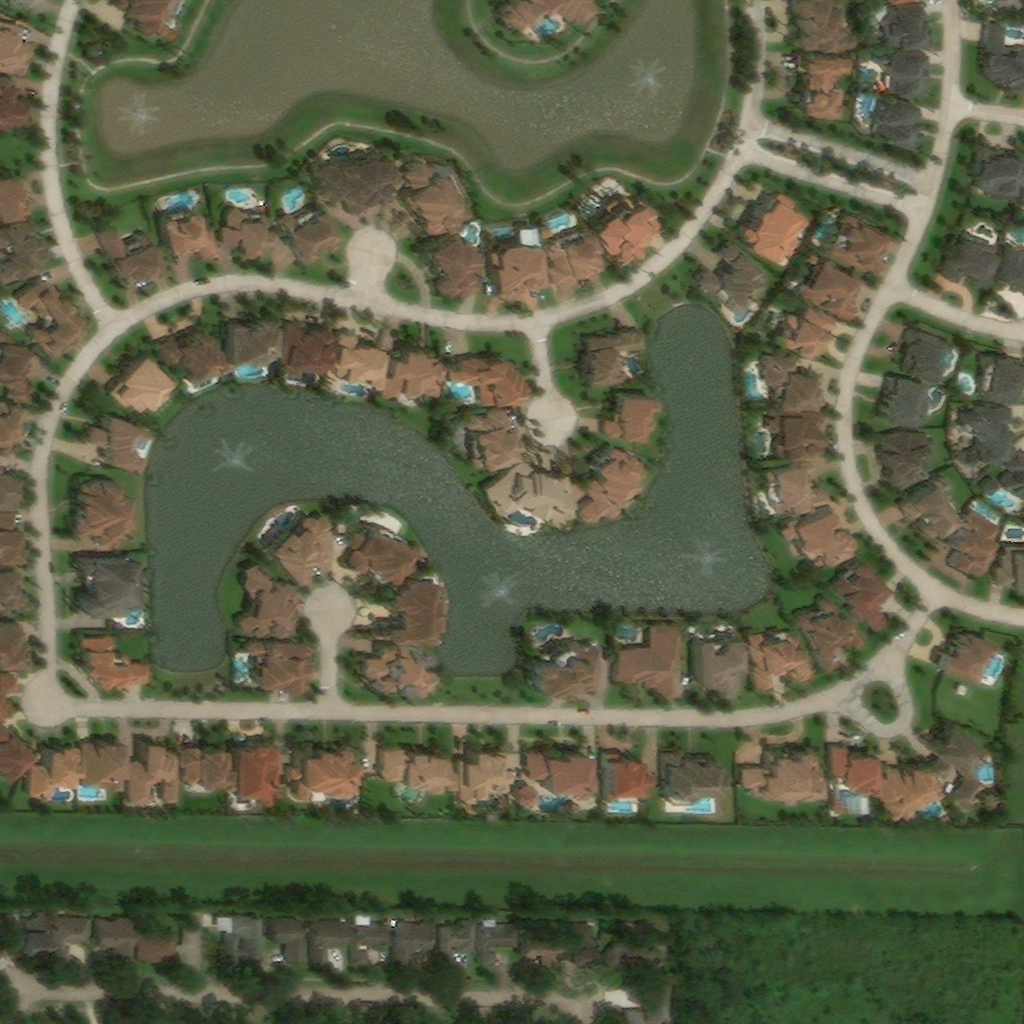no_damage: (481, 454, 572, 527), (573, 438, 641, 522), (697, 240, 769, 319), (737, 188, 808, 267), (400, 157, 469, 237), (313, 149, 395, 216), (15, 273, 78, 360), (795, 591, 863, 671), (929, 721, 989, 805), (237, 560, 300, 636), (591, 192, 661, 260), (265, 512, 332, 582), (97, 222, 167, 289), (741, 744, 818, 804), (780, 504, 852, 567), (617, 624, 681, 693), (830, 553, 888, 626), (745, 626, 811, 690), (288, 742, 356, 804), (77, 630, 148, 689), (348, 519, 417, 579), (801, 252, 861, 321), (74, 550, 134, 618), (580, 325, 643, 389), (825, 211, 889, 274), (794, 48, 850, 120), (380, 341, 445, 403), (274, 204, 340, 265), (363, 638, 433, 694), (765, 456, 828, 518), (875, 429, 938, 491), (546, 223, 603, 291), (448, 351, 521, 404), (899, 477, 960, 540), (948, 507, 1002, 578), (87, 407, 146, 471), (530, 642, 599, 696), (109, 350, 171, 410), (74, 475, 126, 546), (159, 323, 226, 378), (876, 759, 937, 819), (602, 927, 663, 987), (245, 635, 307, 694), (383, 570, 436, 639), (525, 745, 590, 800), (960, 404, 1013, 471), (380, 746, 451, 796), (427, 232, 480, 298), (0, 219, 52, 286), (126, 736, 178, 803), (936, 627, 996, 685), (790, 0, 856, 51), (158, 207, 219, 260), (458, 745, 510, 807), (942, 230, 1000, 285), (280, 321, 335, 378), (488, 237, 542, 295), (465, 405, 515, 466), (26, 740, 79, 797), (692, 630, 741, 691), (762, 353, 818, 406), (902, 326, 955, 382), (231, 735, 273, 805), (872, 91, 918, 153), (664, 749, 724, 796), (333, 332, 385, 386), (783, 304, 835, 357), (227, 312, 277, 365), (602, 387, 656, 436), (496, 0, 584, 30), (881, 374, 929, 429), (975, 144, 1020, 202), (177, 741, 230, 790), (766, 408, 820, 456), (0, 328, 34, 404), (982, 23, 1022, 87), (978, 348, 1022, 404), (873, 46, 924, 94), (80, 736, 123, 791), (221, 206, 269, 254), (603, 748, 647, 800), (830, 745, 877, 792), (480, 918, 523, 969), (877, 0, 926, 44), (353, 913, 392, 967), (981, 450, 1022, 499), (0, 17, 33, 74), (5, 911, 52, 951), (312, 920, 349, 968), (0, 721, 29, 780), (54, 917, 90, 964), (97, 918, 136, 961), (218, 914, 263, 951), (272, 917, 306, 965), (0, 169, 30, 220), (629, 987, 670, 1023), (394, 922, 432, 960), (0, 398, 24, 455), (138, 929, 178, 963), (121, 0, 167, 28), (0, 72, 22, 130), (993, 545, 1022, 588), (0, 562, 23, 615), (995, 241, 1022, 286), (0, 618, 23, 667), (442, 920, 475, 953), (564, 925, 593, 960), (0, 509, 20, 559), (524, 935, 561, 962), (0, 667, 14, 718), (0, 468, 16, 508), (516, 782, 537, 805), (9, 0, 38, 10), (978, 0, 999, 13), (829, 796, 843, 808)
